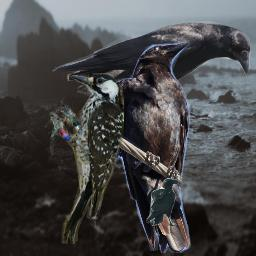Crow: (52, 21, 251, 119), (110, 40, 191, 253), (146, 178, 179, 226)
Woodpecker: (50, 73, 124, 244)
